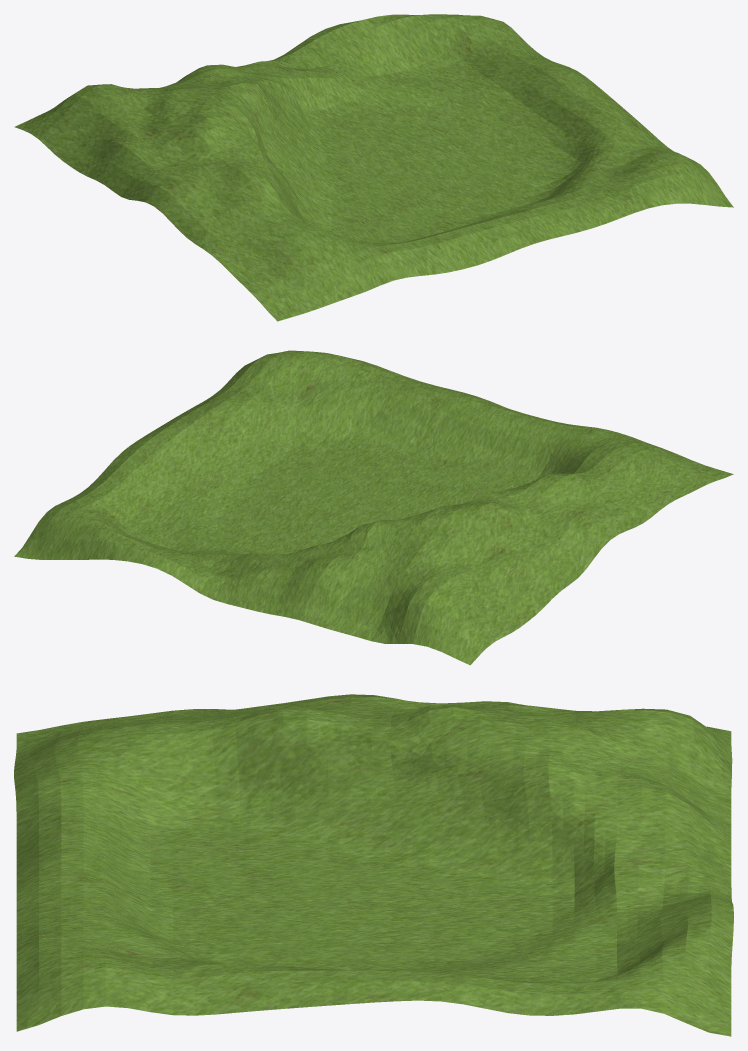
File: terrain.obj
3 renders of one model, top to bottom at view 1: azimuth 30°, elevation 25°; view 2: azimuth 150°, elevation 25°; view 3: azimuth 270°, elevation 25°, orthographic. The views are drawn at different scales.
Visible parts, largest first — view 1: Plane; view 2: Plane; view 3: Plane.
Part boxes in pixels (<box>): Plane: <box>14,14,733,321</box>; Plane: <box>14,350,733,665</box>; Plane: <box>14,694,733,1036</box>.
Size of the model in its own units: 200 by 27.17 by 202.
